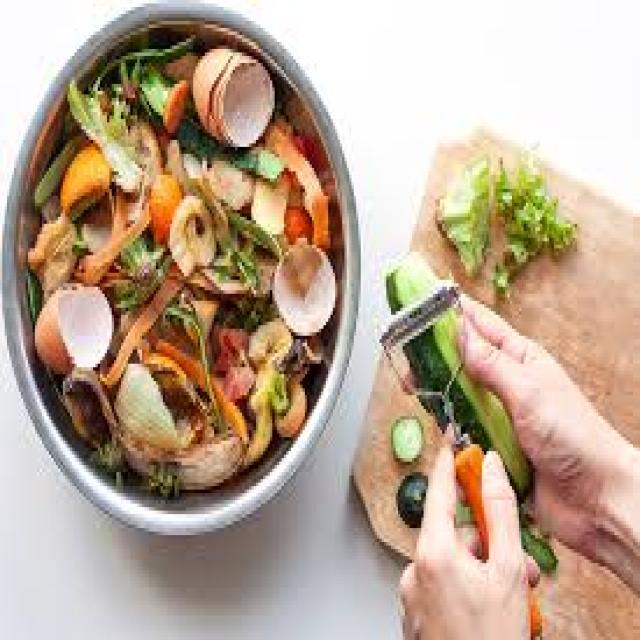Wet: (446, 160, 570, 279), (57, 144, 111, 213)
